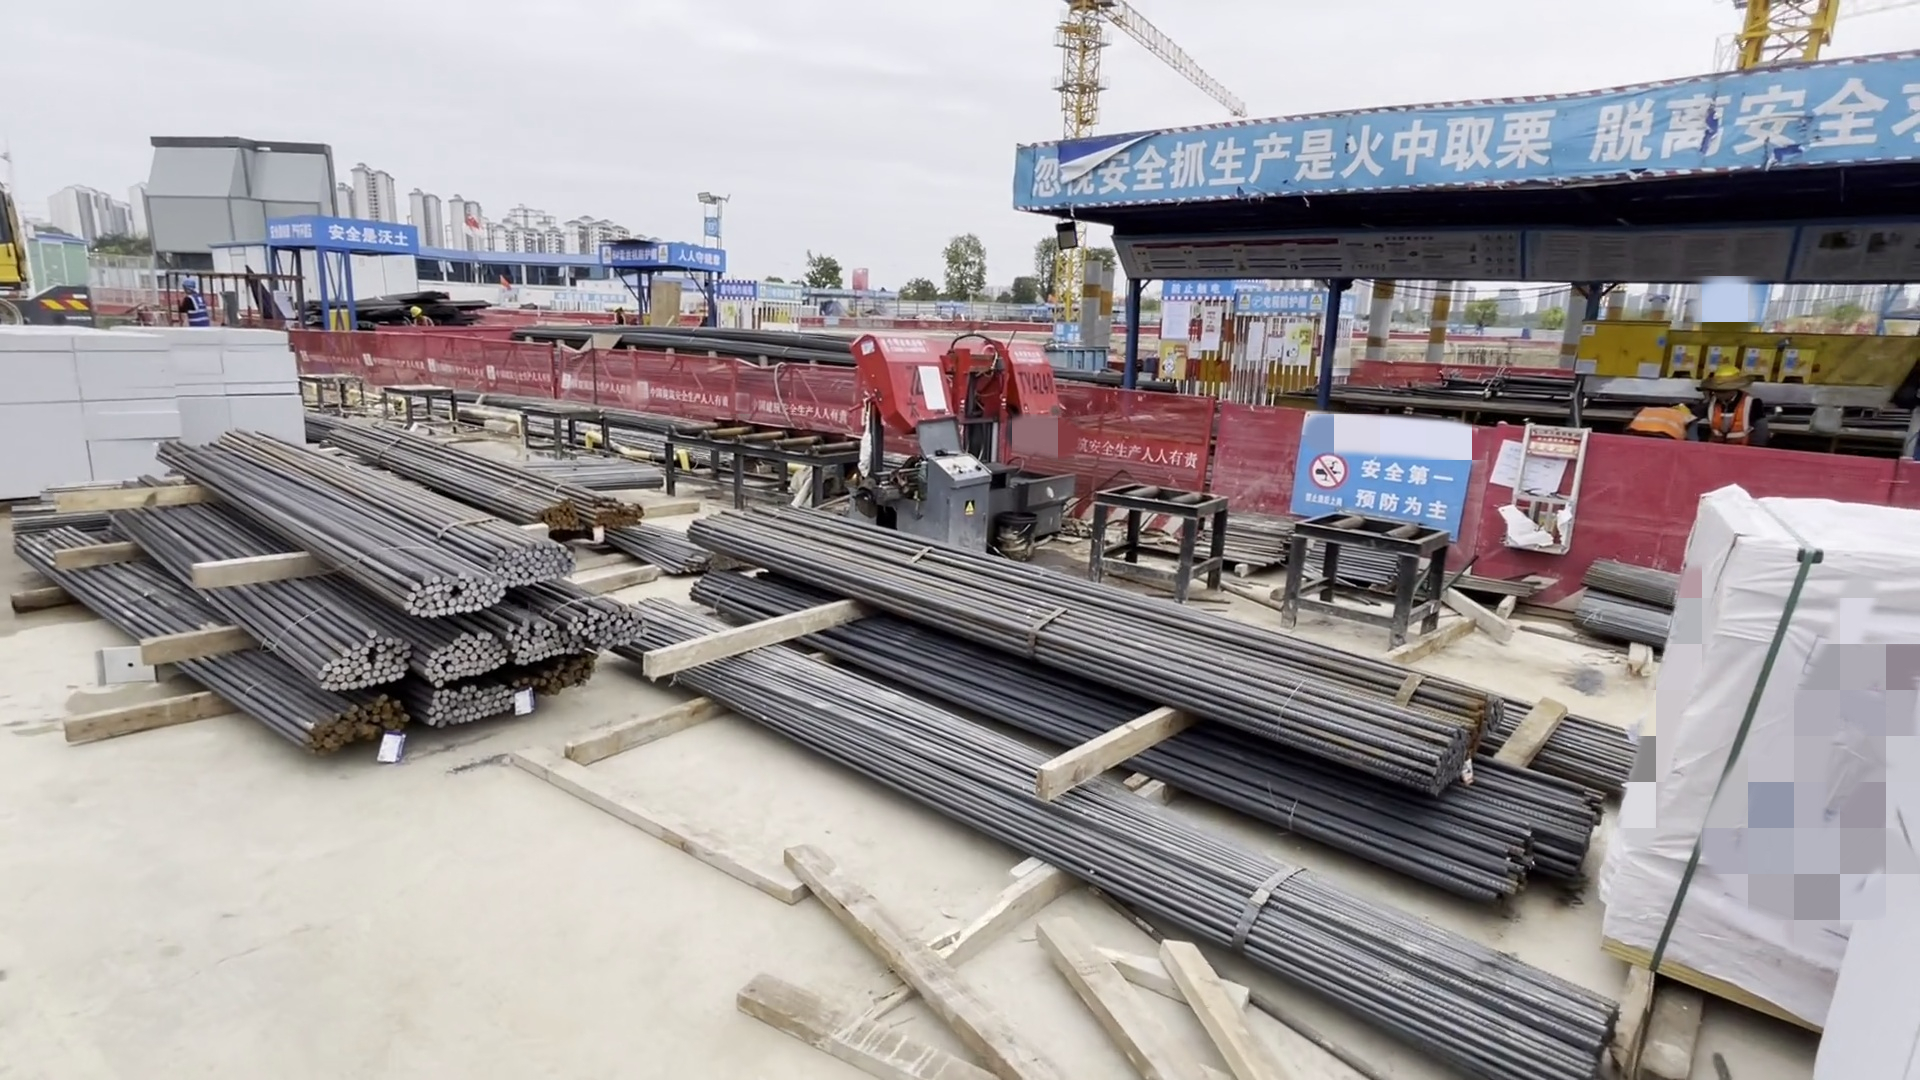brick: (3, 324, 305, 501)
fence: (297, 324, 880, 464)
rebar: (621, 502, 1648, 1080), (7, 405, 644, 764)
slogan: (1023, 44, 1920, 204), (1291, 400, 1472, 546), (1154, 264, 1335, 320), (256, 212, 419, 258), (604, 233, 728, 276)
